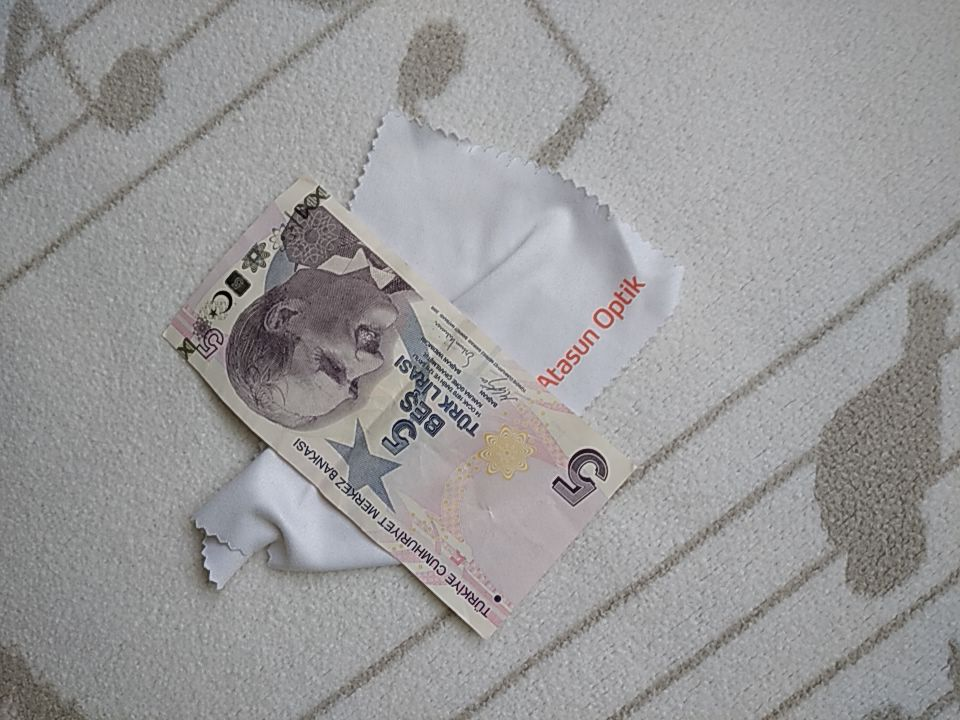5TL: (160, 171, 638, 639)
